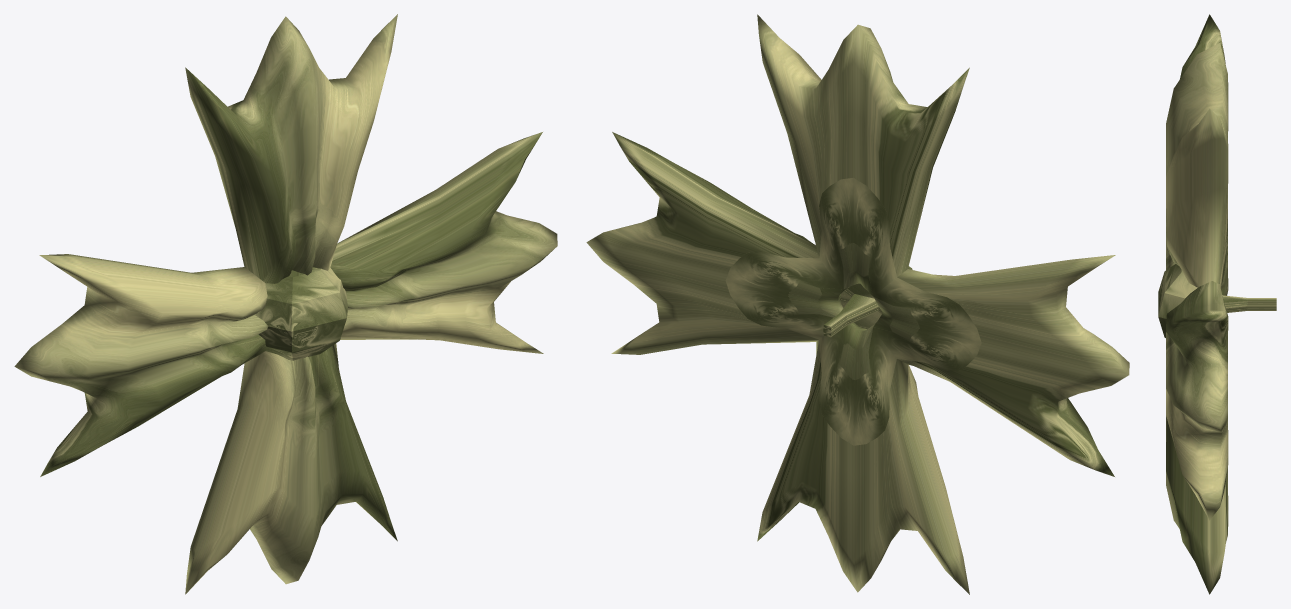
File: GOLD 22K CH PLUS #2 STUD EARRING.fbx
3 renders of one model, left to right at view 1: azimuth 30°, elevation 25°; view 2: azimuth 150°, elevation 25°; view 3: azimuth 270°, elevation 25°, orthographic. The views are drawn at different scales.
Visible parts, largest first — view 1: pTorus17, pSphere1; view 2: pTorus17, pSphere1; view 3: pTorus17, pSphere1.
Part boxes in pixels (x1,y1,x2,y2): pTorus17: (14, 14, 557, 594); pSphere1: (255, 267, 347, 360); pTorus17: (586, 14, 1129, 594); pSphere1: (823, 266, 912, 337); pTorus17: (1166, 14, 1228, 594); pSphere1: (1158, 264, 1276, 337).
Bounding box in the file's own units: 17.09 × 17.09 × 3.5.
